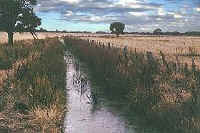sky: (43, 1, 200, 20), (43, 19, 106, 31), (128, 20, 200, 30)
tree: (3, 1, 40, 48), (107, 20, 127, 38)
vegetation: (11, 40, 72, 115), (139, 58, 200, 133), (98, 45, 138, 102)
water: (63, 48, 132, 133)
